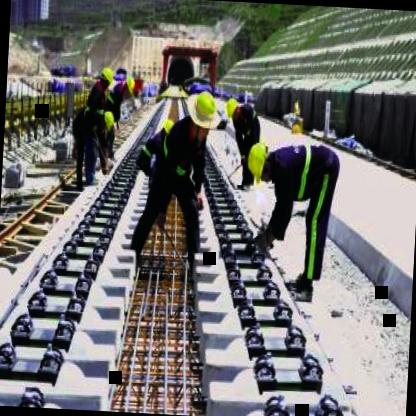helmet: (244, 138, 272, 184), (188, 89, 219, 130), (222, 92, 245, 130), (94, 64, 117, 96), (96, 107, 120, 137), (119, 72, 137, 100), (160, 116, 178, 143)
